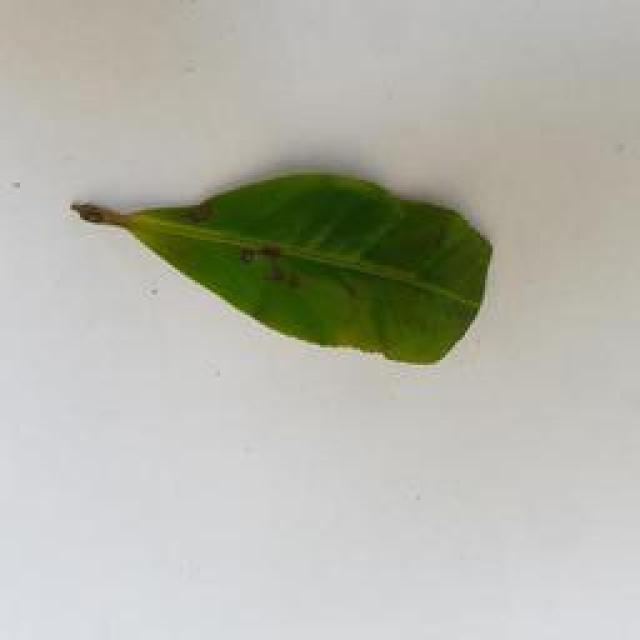Helopeltis: (72, 168, 503, 366)
